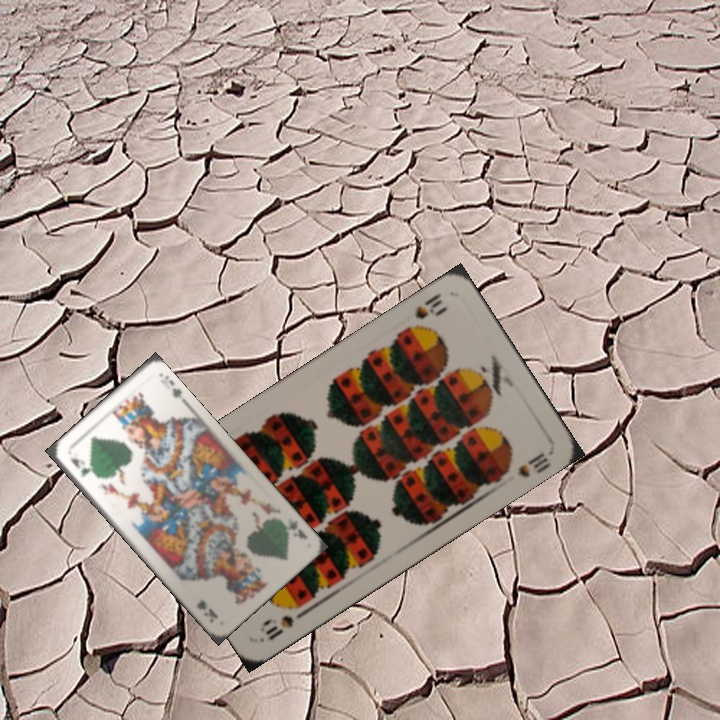GK: (274, 514, 310, 542), (65, 452, 93, 480)
S10: (402, 289, 450, 335), (255, 611, 297, 643)
